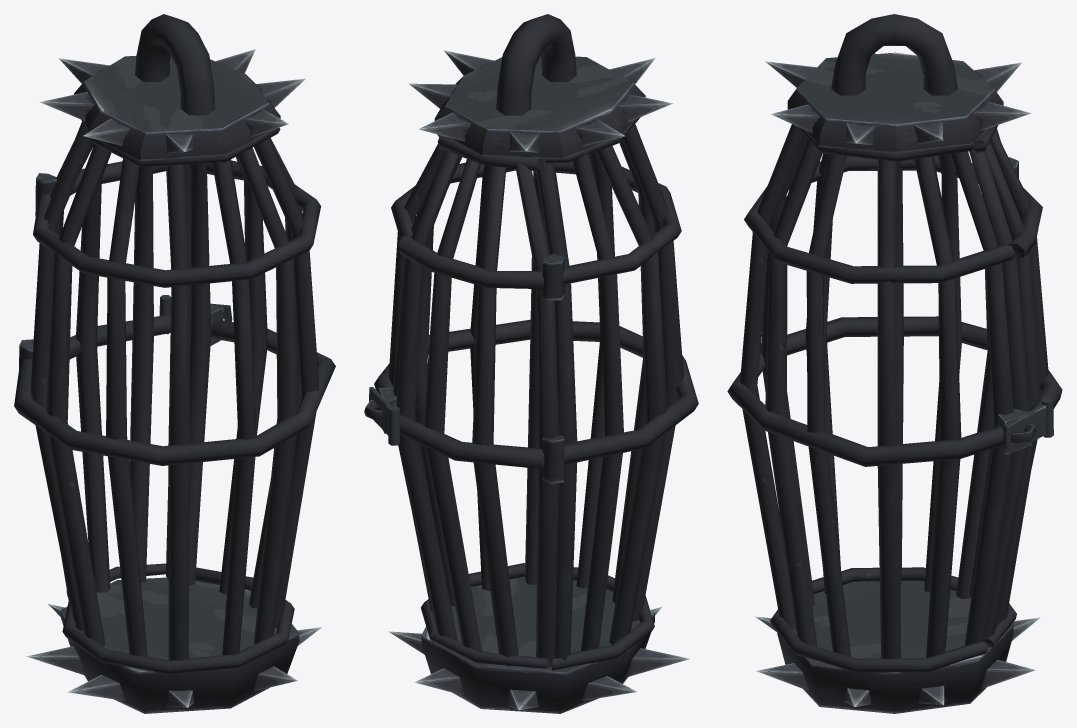
File: SM_PROP_cage_dungeon_02.fbx
3 views of the same model, side by side, from view 1: azimuth 30°, elevation 25°; view 2: azimuth 150°, elevation 25°; view 3: azimuth 270°, elevation 25° (orthographic).
Visible parts, largest first — view 1: SM_PROP_cage_dungeon_02, SM_PROP_cage_door_dungeon_02; view 2: SM_PROP_cage_dungeon_02, SM_PROP_cage_door_dungeon_02; view 3: SM_PROP_cage_dungeon_02, SM_PROP_cage_door_dungeon_02.
Boxes of the visible parts, x1,y1,x2,y2 form: SM_PROP_cage_dungeon_02: [14, 14, 335, 713]; SM_PROP_cage_door_dungeon_02: [56, 142, 232, 596]; SM_PROP_cage_dungeon_02: [364, 14, 698, 713]; SM_PROP_cage_door_dungeon_02: [369, 135, 559, 668]; SM_PROP_cage_dungeon_02: [727, 14, 1039, 713]; SM_PROP_cage_door_dungeon_02: [969, 125, 1062, 647].
Bounding box in the file's own units: 114 × 251 × 116.
